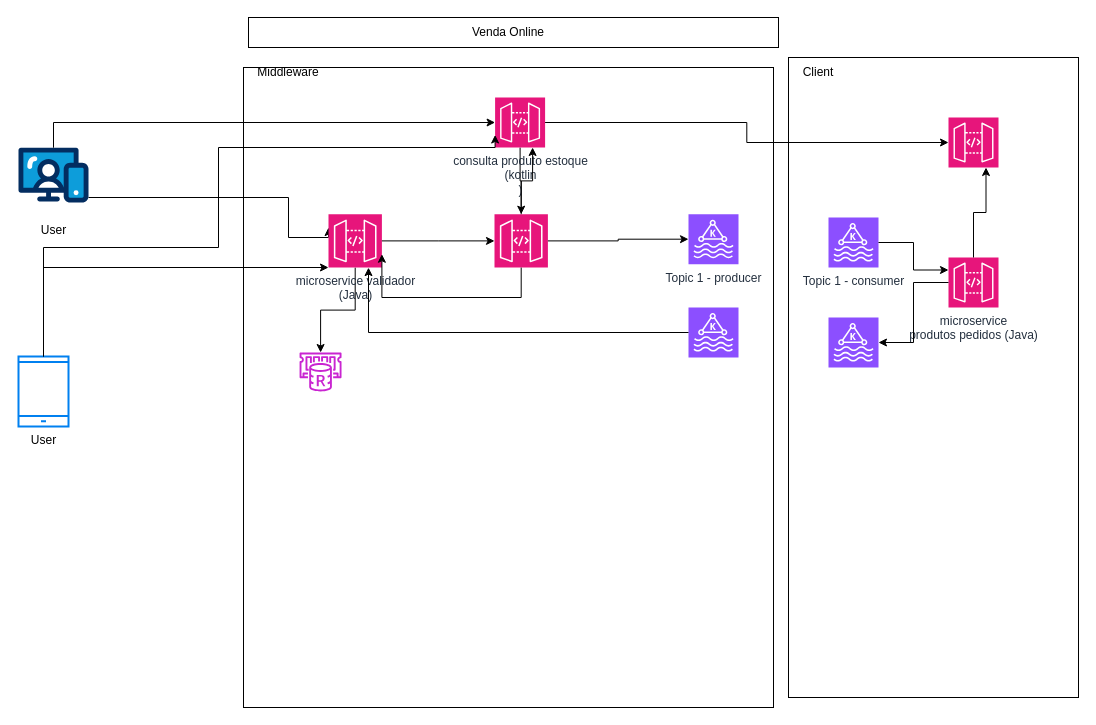
Image size: 1096x725. Some labels were removed from this diagram. The centre of each missing label's shape, as x and y in pixels:
"microservice estoque pedido (Java)" goes at pixel 521 240.
"microservice produtos (kotlin)" goes at pixel 973 142.
"Topic 2 - consumer" goes at pixel 713 332.
"Topic 2 - producer" goes at pixel 853 342.
